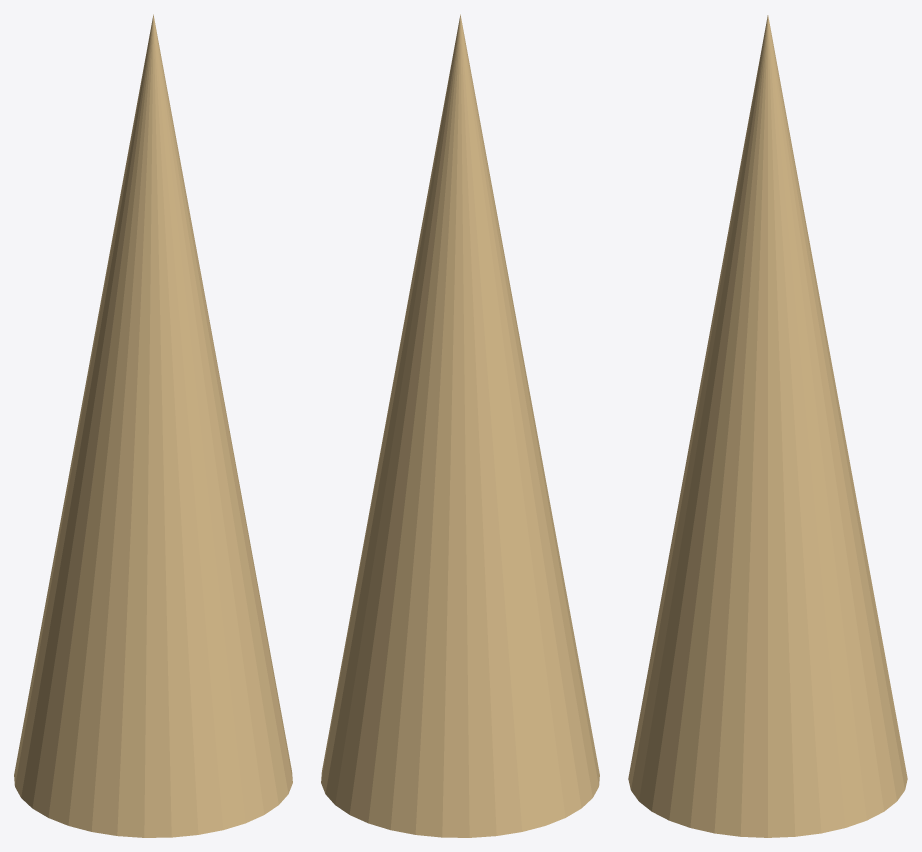
Rendered from SpikeL.fbx.
The picture shows the model from 3 angles, left to right: view 1: azimuth 30°, elevation 25°; view 2: azimuth 150°, elevation 25°; view 3: azimuth 270°, elevation 25°; orthographic projection.
Parts seen in each view (by area): view 1: SpikeL; view 2: SpikeL; view 3: SpikeL.
Boxes of the visible parts, x1,y1,x2,y2 form: SpikeL: (14,14,292,837); SpikeL: (321,14,599,837); SpikeL: (628,15,907,837).
Bounding box in the file's own units: 55.46 × 167 × 55.46.
